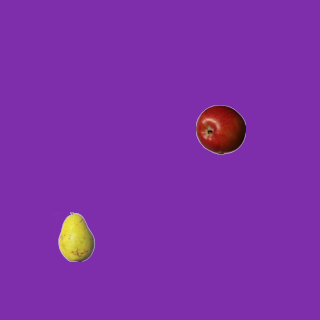Apple Braeburn: (195, 104, 245, 154)
Pear Monster: (51, 211, 101, 261)
